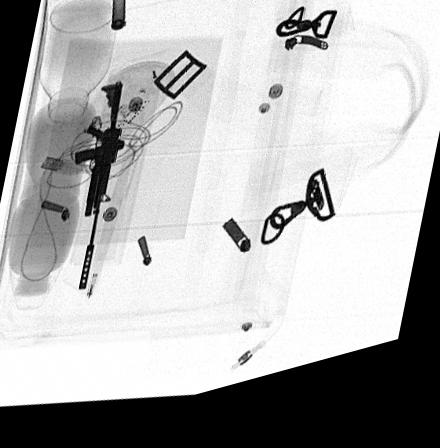Bullet: (112, 0, 126, 37)
Gun: (72, 90, 123, 294)
